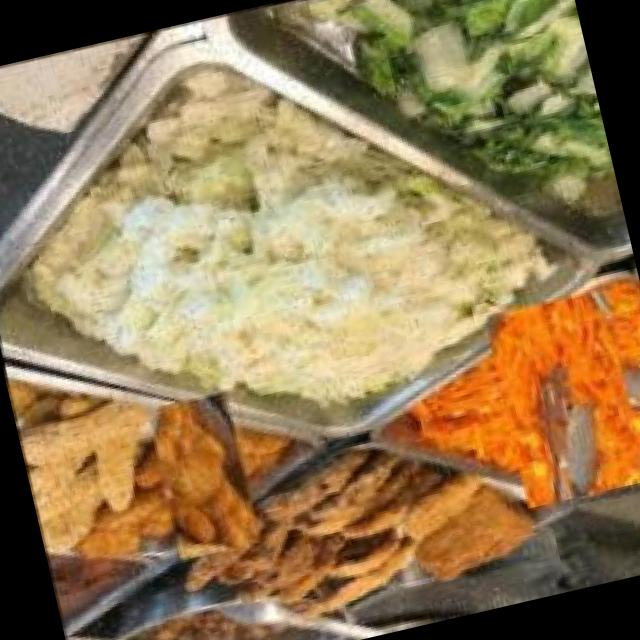carrot_eggs: (461, 291, 640, 501)
chinese_cabbage: (41, 68, 501, 449)
triangle_hash_brown: (126, 398, 279, 551)
